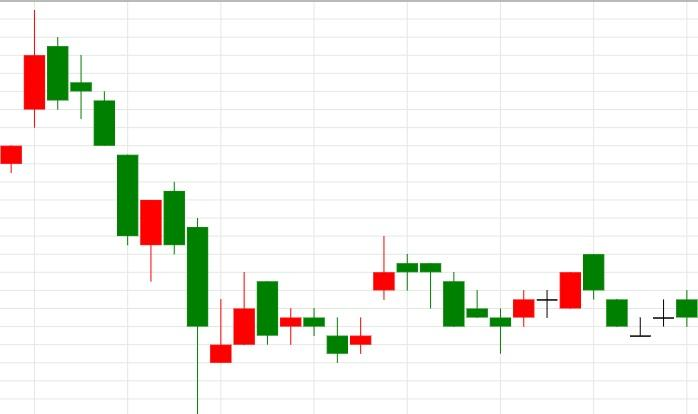inverse_hammer_rise: (46, 37, 233, 414)
